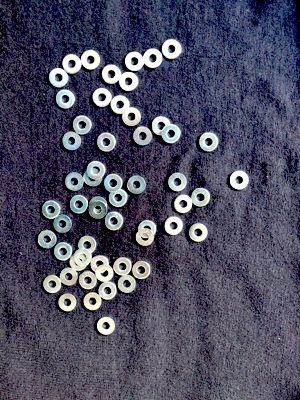circle: (78, 47, 101, 72), (59, 51, 81, 75), (124, 49, 146, 73), (39, 273, 62, 295), (47, 68, 69, 91), (54, 90, 76, 112), (160, 39, 183, 60), (143, 46, 163, 70), (37, 228, 59, 249), (100, 65, 122, 86), (118, 72, 139, 93), (164, 216, 185, 237), (58, 292, 78, 314), (92, 86, 112, 108), (132, 124, 152, 146), (166, 171, 188, 191), (191, 187, 211, 209), (62, 131, 82, 152), (87, 196, 108, 216), (152, 115, 172, 136), (127, 176, 149, 195), (162, 124, 181, 146), (42, 201, 62, 221), (52, 214, 72, 234), (132, 260, 152, 280), (199, 132, 219, 152), (173, 195, 193, 215), (229, 171, 249, 191), (60, 267, 79, 288), (65, 172, 84, 193), (121, 108, 142, 127), (117, 275, 138, 294), (70, 195, 89, 215), (73, 116, 93, 135), (111, 95, 130, 115), (86, 160, 105, 180), (83, 292, 102, 312), (98, 281, 117, 301), (95, 316, 115, 335), (138, 220, 159, 238), (189, 223, 207, 244), (69, 253, 88, 272), (97, 134, 116, 153), (103, 174, 122, 193), (89, 202, 108, 221), (104, 212, 123, 231), (109, 189, 128, 208), (84, 167, 102, 187), (90, 255, 110, 273), (78, 272, 98, 290), (53, 243, 72, 261), (78, 236, 97, 254), (136, 229, 154, 247), (114, 257, 131, 276), (74, 249, 92, 266), (96, 265, 114, 282)
